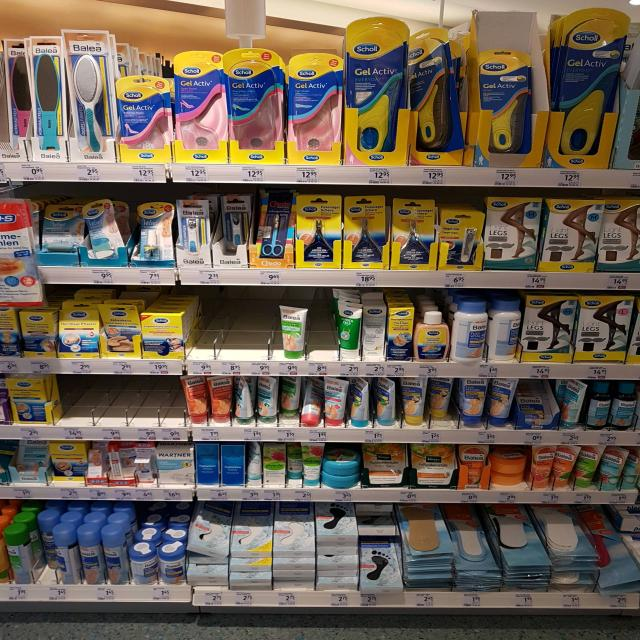empty: (57, 376, 184, 421), (197, 294, 277, 360), (307, 294, 340, 358)
